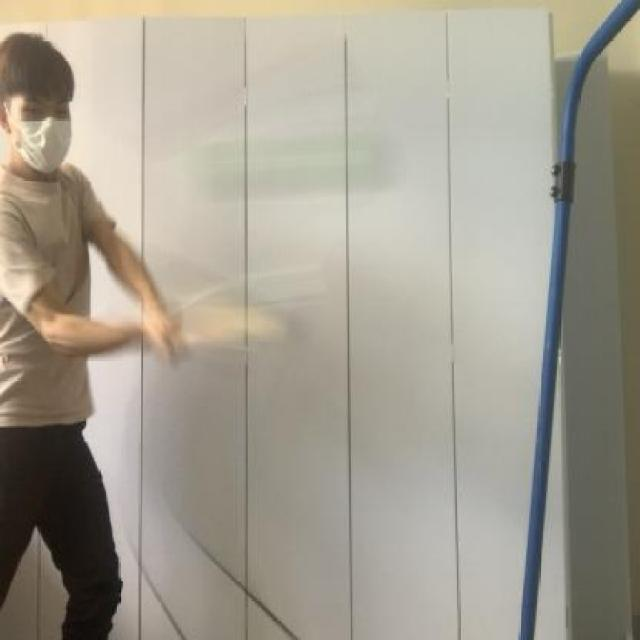baseball: (199, 116, 403, 207)
